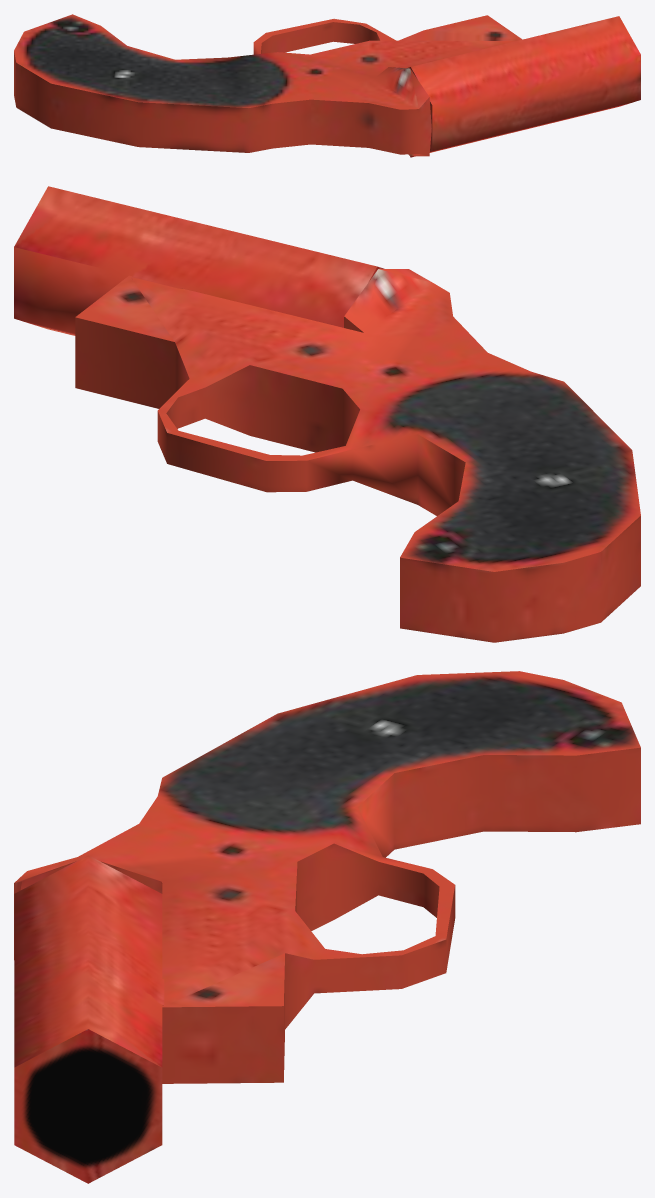
The model's file is flaregun.glb.
3 renders of one model, top to bottom at view 1: azimuth 30°, elevation 25°; view 2: azimuth 150°, elevation 25°; view 3: azimuth 270°, elevation 25°, orthographic. The views are drawn at different scales.
Visible parts, largest first — view 1: Bengal_01_Bengal_0; view 2: Bengal_01_Bengal_0; view 3: Bengal_01_Bengal_0.
Part boxes in pixels (left/top/right/bottom): Bengal_01_Bengal_0: left=14, top=14, right=640, bottom=157; Bengal_01_Bengal_0: left=14, top=186, right=640, bottom=642; Bengal_01_Bengal_0: left=14, top=671, right=640, bottom=1183.
Size of the model in its own units: 0.283 by 0.0515 by 0.1889.
Materials: 1 (1 with a texture image).
